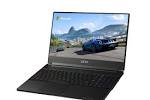laptop: (14, 5, 135, 95)
